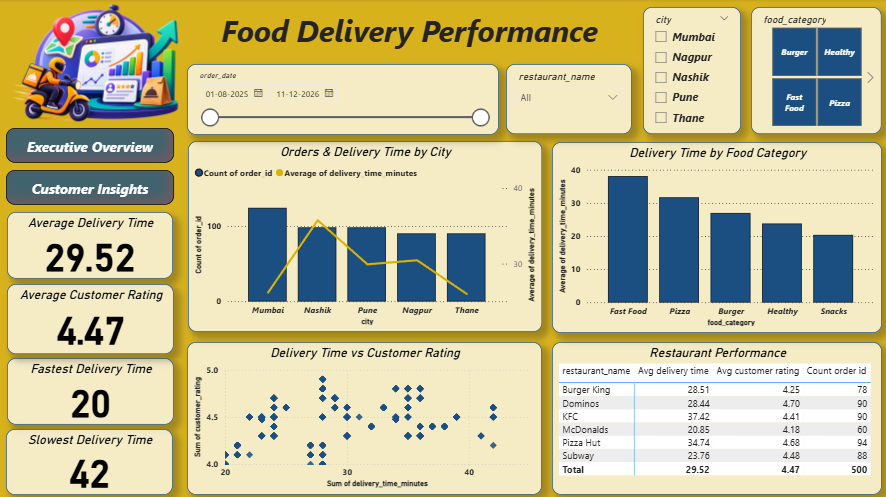

Layout of this report page (visuals, bound fields, positions):
{"tool":"powerbi","page":{"name":"Delivery Performance","canvas":[1280,720],"ordinal":1},"visuals":[{"type":"card","title":"Average Delivery Time","fields":{"Values":["Avg(food_delivery.delivery_time_minutes)"]},"box":[11.5,306.7,239,96.5],"z":0},{"type":"card","title":"Fastest Delivery Time","fields":{"Values":["Min(food_delivery.delivery_time_minutes)"]},"box":[11.5,517,240.5,96.5],"z":1000},{"type":"card","title":"Slowest Delivery Time","fields":{"Values":["Max(food_delivery.delivery_time_minutes)"]},"box":[10.1,619.2,240.5,95],"z":2000},{"type":"card","title":"Average Customer Rating","fields":{"Values":["Avg(food_delivery.customer_rating)"]},"box":[11.5,410.4,240.5,100.8],"z":3000},{"type":"scatterChart","title":"Delivery Time vs Customer Rating","fields":{"Category":["food_delivery.order_id"],"X":["Sum(food_delivery.delivery_time_minutes)"],"Y":["Sum(food_delivery.customer_rating)"]},"box":[270.4,493.9,510.7,220.1],"z":4000},{"type":"lineClusteredColumnComboChart","title":"Orders & Delivery Time by City","fields":{"Category":["food_delivery.city"],"Y":["CountNonNull(food_delivery.order_id)"],"Y2":["Avg(food_delivery.delivery_time_minutes)"]},"box":[272.2,204.5,509.8,275],"z":5000},{"type":"pivotTable","title":"Restaurant Performance","fields":{"Rows":["food_delivery.restaurant_name"],"Values":["Avg(food_delivery.delivery_time_minutes)","Avg(food_delivery.customer_rating)","CountNonNull(food_delivery.order_id)"]},"box":[796.3,493.9,478.1,220.3],"z":6000},{"type":"clusteredColumnChart","title":"Delivery Time by Food Category","fields":{"Category":["food_delivery.food_category"],"Y":["Avg(food_delivery.delivery_time_minutes)"]},"box":[796.2,206.6,478.7,273.8],"z":7000},{"type":"slicer","fields":{"Values":["food_delivery.order_date"]},"box":[270.7,93.6,449.3,102.2],"z":8000},{"type":"slicer","fields":{"Values":["food_delivery.city"]},"box":[927.2,11.8,141.1,183.1],"z":9000},{"type":"slicer","fields":{"Values":["food_delivery.restaurant_name"]},"box":[730.1,93.6,181.4,100.8],"z":10000},{"type":"slicer","fields":{"Values":["food_delivery.food_category"]},"box":[1083.5,11.8,188.1,183.1],"z":11000},{"type":"textbox","box":[270.7,11.5,640.8,77.8],"z":12000},{"type":"image","box":[0,0,289.4,194.4],"z":13000},{"type":"actionButton","box":[10.1,246.2,241.9,50.4],"z":14000},{"type":"actionButton","box":[10.1,185.8,241.9,50.4],"z":15000}]}

Visuals, with their boxes in screenshot pixels (x1, y1, x2, y2), scaled from the page's 1280x720 canvas onto the 886x497 screenshot:
"Average Delivery Time" card: select_region(8, 212, 173, 278)
"Fastest Delivery Time" card: select_region(8, 357, 174, 423)
"Slowest Delivery Time" card: select_region(7, 427, 173, 493)
"Average Customer Rating" card: select_region(8, 283, 174, 353)
"Delivery Time vs Customer Rating" scatterChart: select_region(187, 341, 541, 493)
"Orders & Delivery Time by City" lineClusteredColumnComboChart: select_region(188, 141, 541, 331)
"Restaurant Performance" pivotTable: select_region(551, 341, 882, 493)
"Delivery Time by Food Category" clusteredColumnChart: select_region(551, 143, 882, 332)
slicer - food_delivery.order_date: select_region(187, 65, 498, 135)
slicer - food_delivery.city: select_region(642, 8, 739, 135)
slicer - food_delivery.restaurant_name: select_region(505, 65, 631, 134)
slicer - food_delivery.food_category: select_region(750, 8, 880, 135)
textbox: select_region(187, 8, 631, 62)
image: select_region(0, 0, 200, 134)
actionButton: select_region(7, 170, 174, 205)
actionButton: select_region(7, 128, 174, 163)
